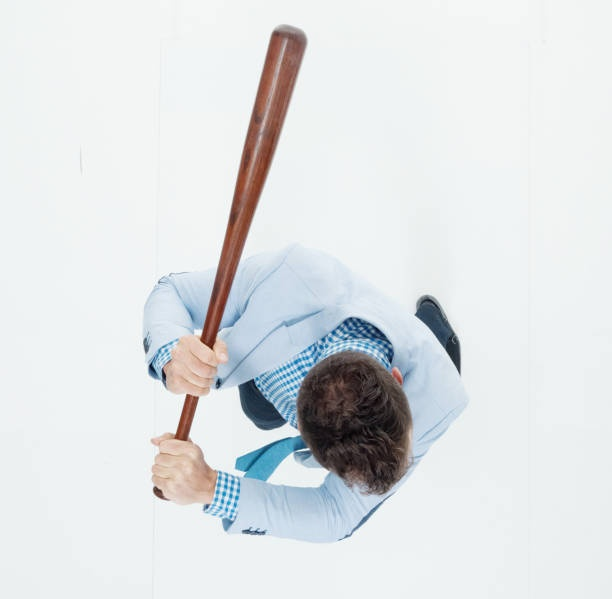bita: (149, 24, 316, 496)
